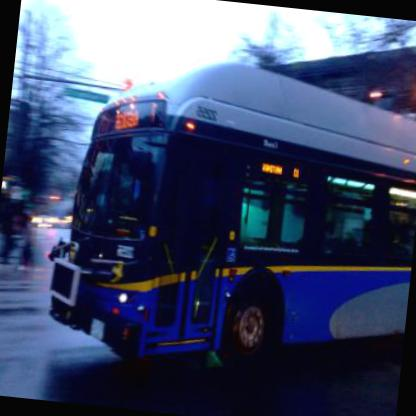bus: (37, 39, 415, 389)
